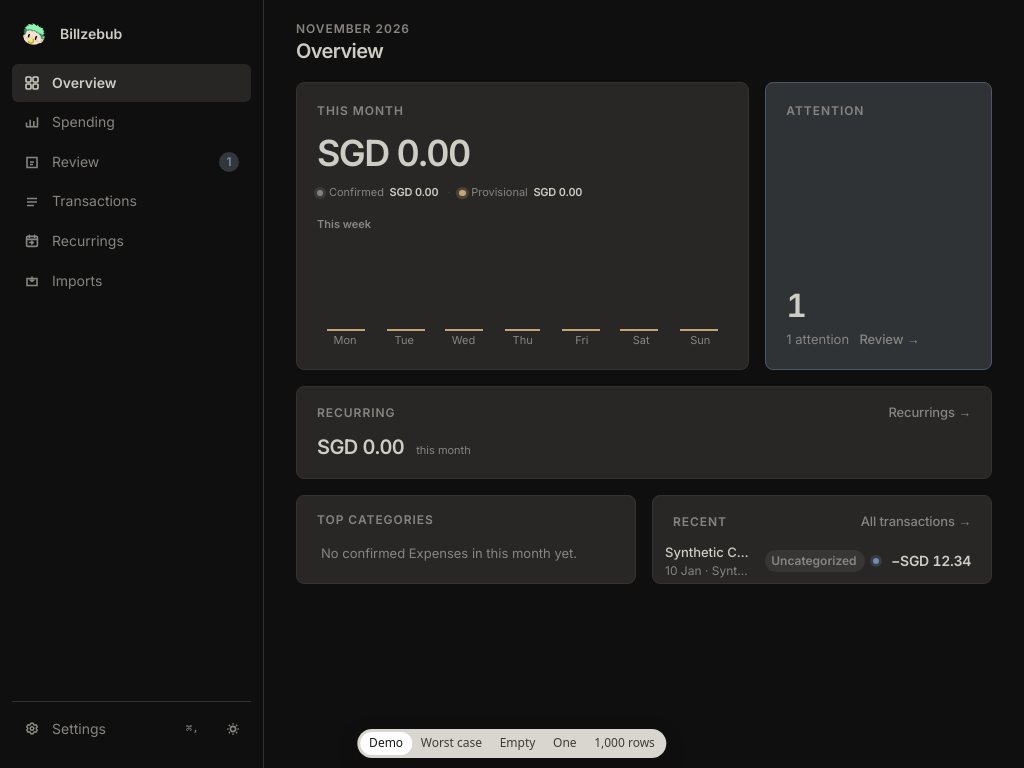
App › loads a workspace and categorizes a Transaction through the protected owner resource
The width and height of the screenshot is (1024, 768).
Expected: the text "Billzebub" is shown, [60,24,122,44]
Expected: the text "Synthetic Coffee" is shown, [665,544,753,560]
Click the button "Synthetic Coffee" at (822, 561), box [653,539,991,583]
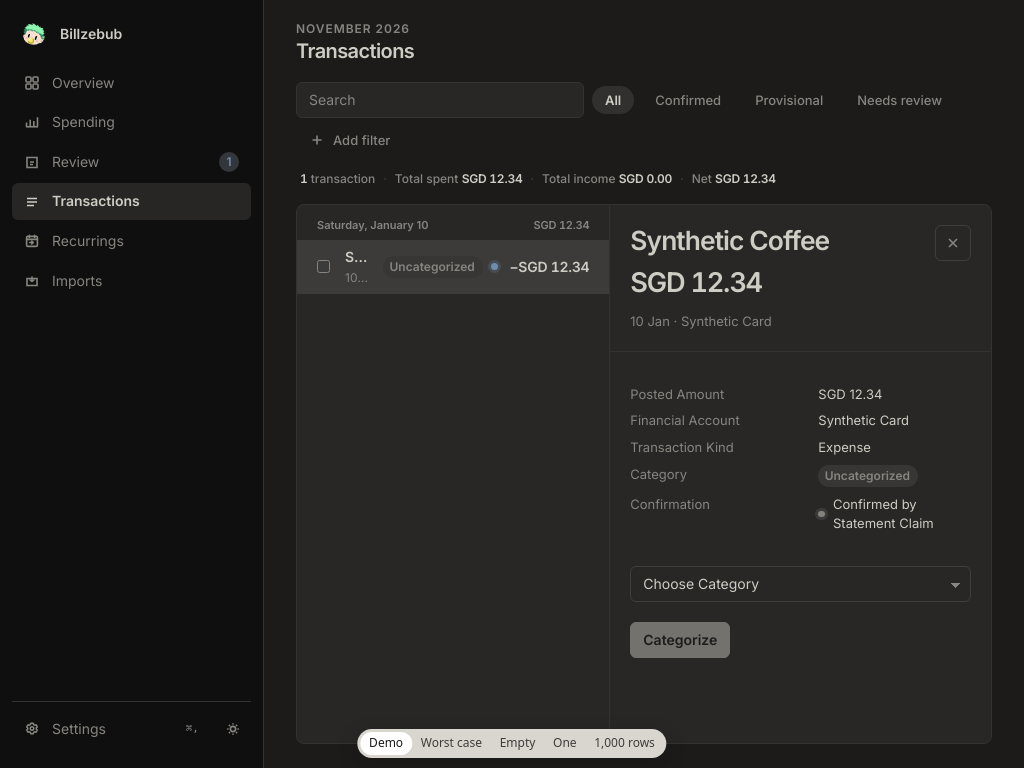
Expected: the button named "Category for Synthetic Coffee" is shown
Click the button named "Category for Synthetic Coffee" at (701, 583), box [630,566,971,602]
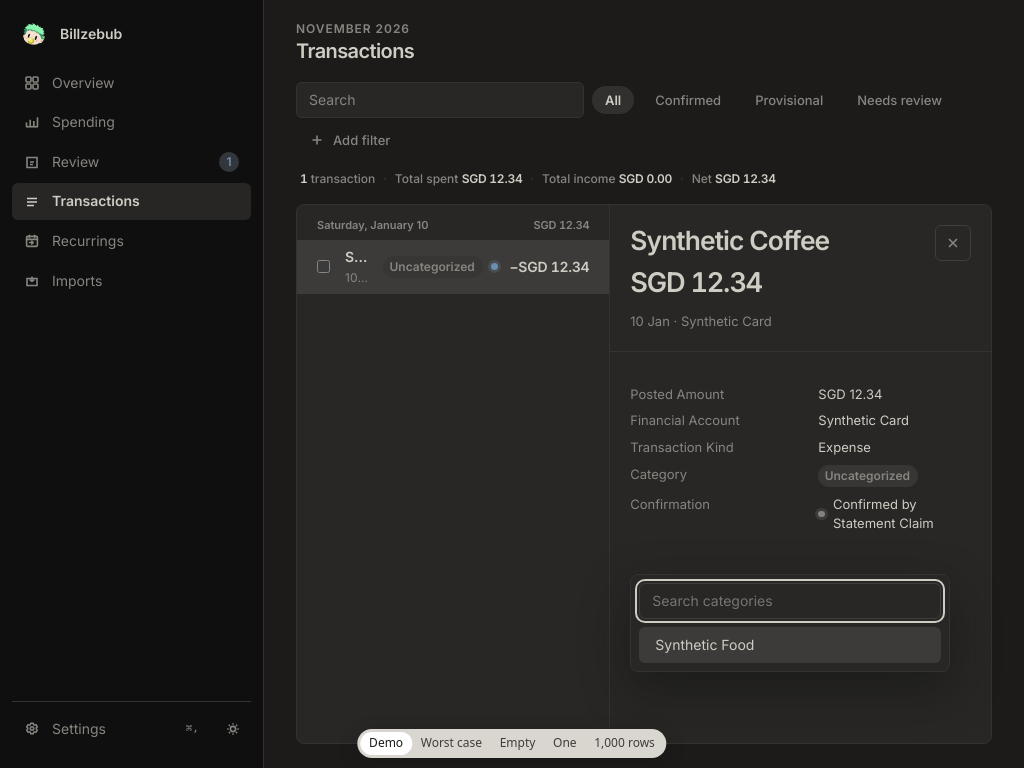
Click the option "Synthetic Food" at (705, 644), box [639,627,941,663]
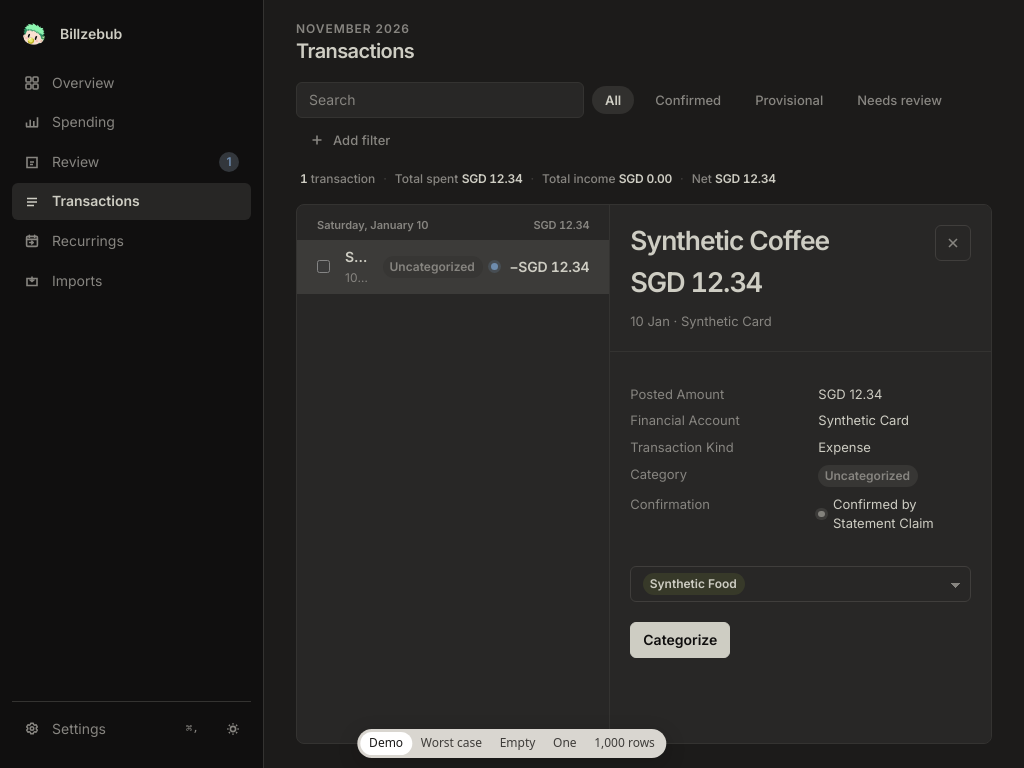
Click the button "Categorize" at (680, 640), box [630,622,730,658]
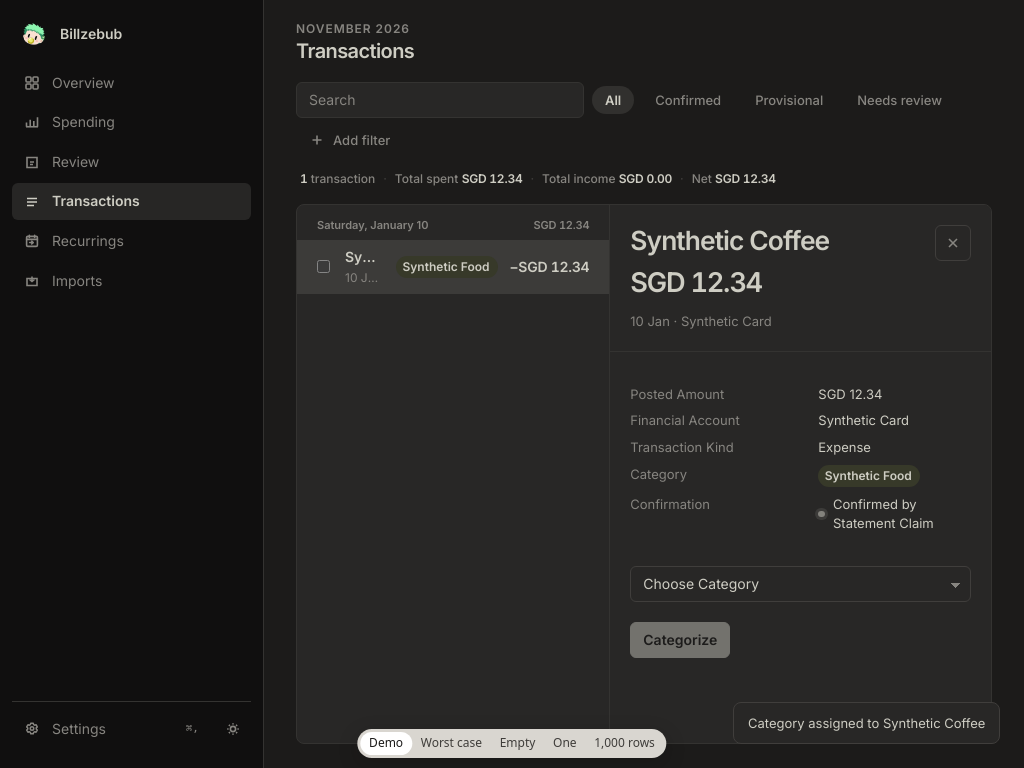
Expected: the element with class "cat-chip" below "Transaction Kind" reads "Synthetic Food", [825,468,912,483]
